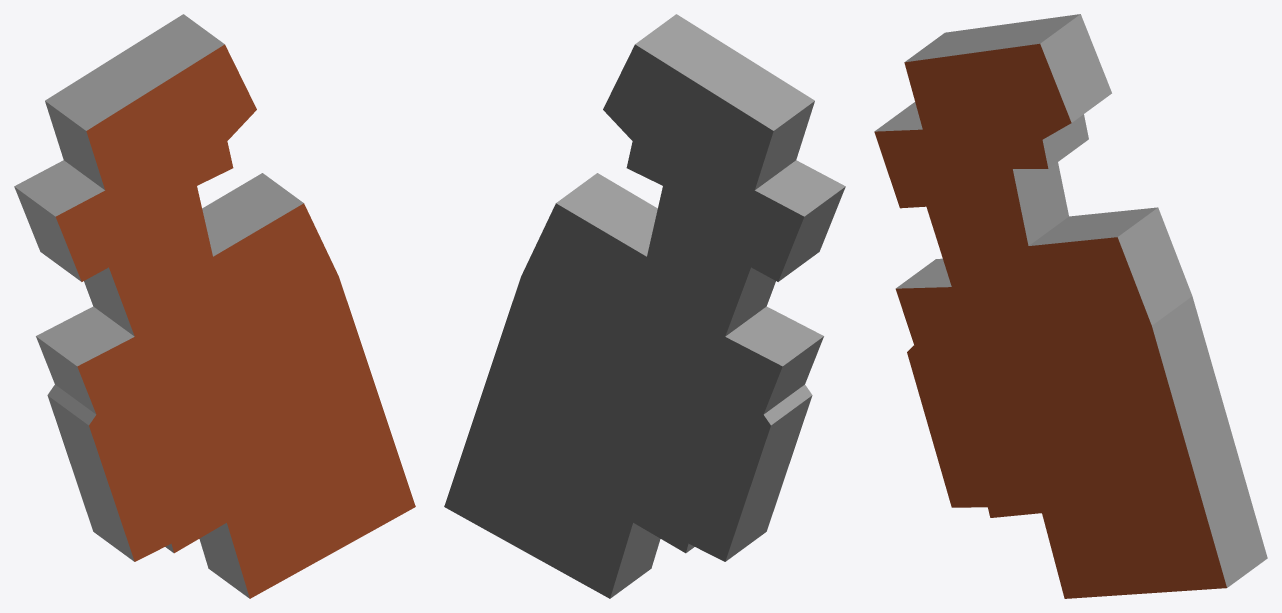
Rendered from construction_6763_assumed_A_Casa_h6m.obj.
The picture shows the model from 3 angles, left to right: view 1: azimuth 30°, elevation 25°; view 2: azimuth 150°, elevation 25°; view 3: azimuth 330°, elevation 25°; orthographic projection. The views are drawn at different scales.
Parts seen in each view (by area): view 1: construction_6763_assumed_A_Casa; view 2: construction_6763_assumed_A_Casa; view 3: construction_6763_assumed_A_Casa.
Part boxes in pixels (x1,y1,x2,y2): construction_6763_assumed_A_Casa: (14,14,415,598); construction_6763_assumed_A_Casa: (444,14,845,598); construction_6763_assumed_A_Casa: (874,14,1267,598).
Bounding box in the file's own units: 30.1 × 44.76 × 6.
